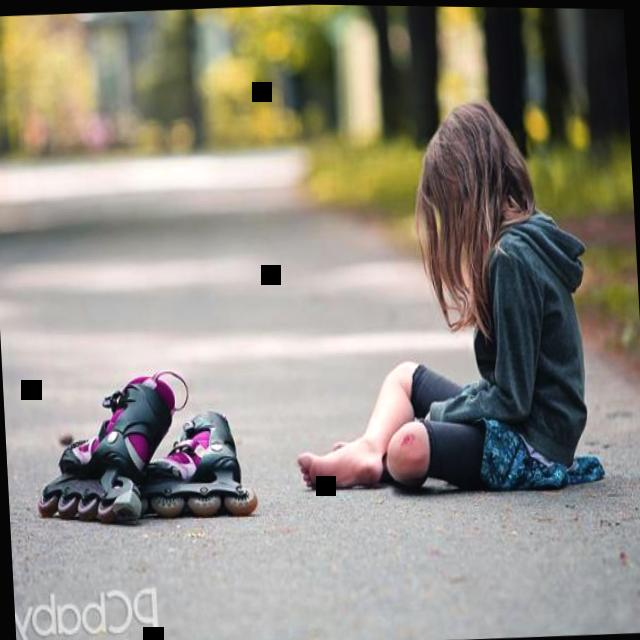Fall-Detected: (274, 78, 634, 503)
